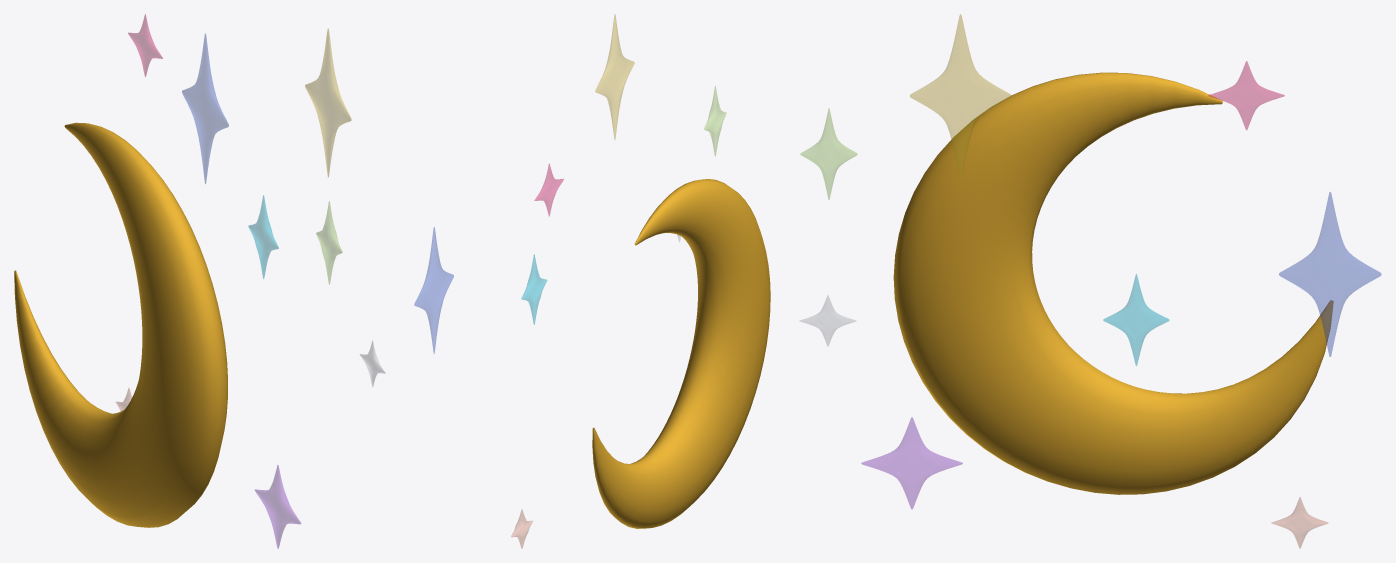
3 renders of one model, left to right at view 1: azimuth 30°, elevation 25°; view 2: azimuth 150°, elevation 25°; view 3: azimuth 270°, elevation 25°, orthographic. The views are drawn at different scales.
Parts seen in each view (by area): view 1: NurbsPath, Cube.008, Cube.007, Cube.004, Cube.002, Cube.005, Cube.006; view 2: NurbsPath, Cube.008, Cube.007, Cube.002, Cube.005, Cube.006; view 3: NurbsPath, Cube.008, Cube.007, Cube.004, Cube.002, Cube.006, Cube.005, Cube.001, Cube.003.
Part boxes in pixels (x1,y1,x2,y2): NurbsPath: (14,122,227,527); Cube.008: (182,33,228,183); Cube.007: (305,28,351,177); Cube.004: (255,465,300,548); Cube.002: (248,195,278,278); Cube.005: (316,201,342,284); Cube.006: (128,14,162,76); NurbsPath: (592,179,770,528); Cube.008: (414,227,453,353); Cube.007: (595,14,634,139); Cube.002: (521,254,546,324); Cube.005: (704,86,726,156); Cube.006: (534,163,563,216); NurbsPath: (893,72,1333,494); Cube.008: (1279,192,1381,356); Cube.007: (910,14,1011,177); Cube.004: (861,417,962,508); Cube.002: (1103,274,1169,365); Cube.006: (1208,61,1284,129); Cube.005: (800,108,857,199); Cube.001: (1272,497,1327,548); Cube.003: (800,295,855,346).
Size of the model in its own units: 7.75 by 16.92 by 15.98.
